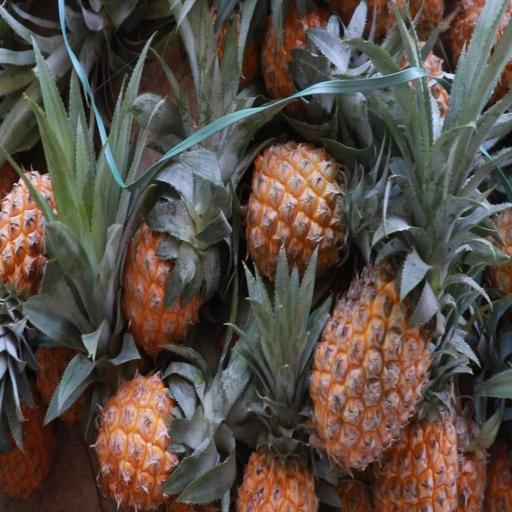Pineapple - v8 v1: (304, 252, 450, 476), (237, 127, 376, 293), (84, 357, 219, 512), (111, 194, 219, 366), (0, 159, 104, 331), (232, 366, 322, 512), (255, 4, 358, 129)
